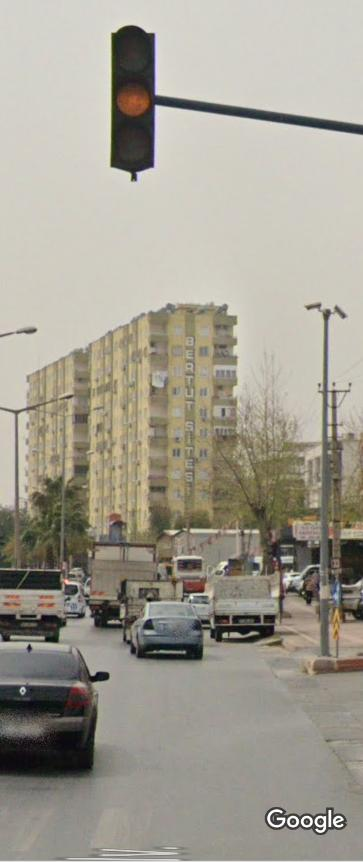yellowlight: (110, 25, 158, 172)
